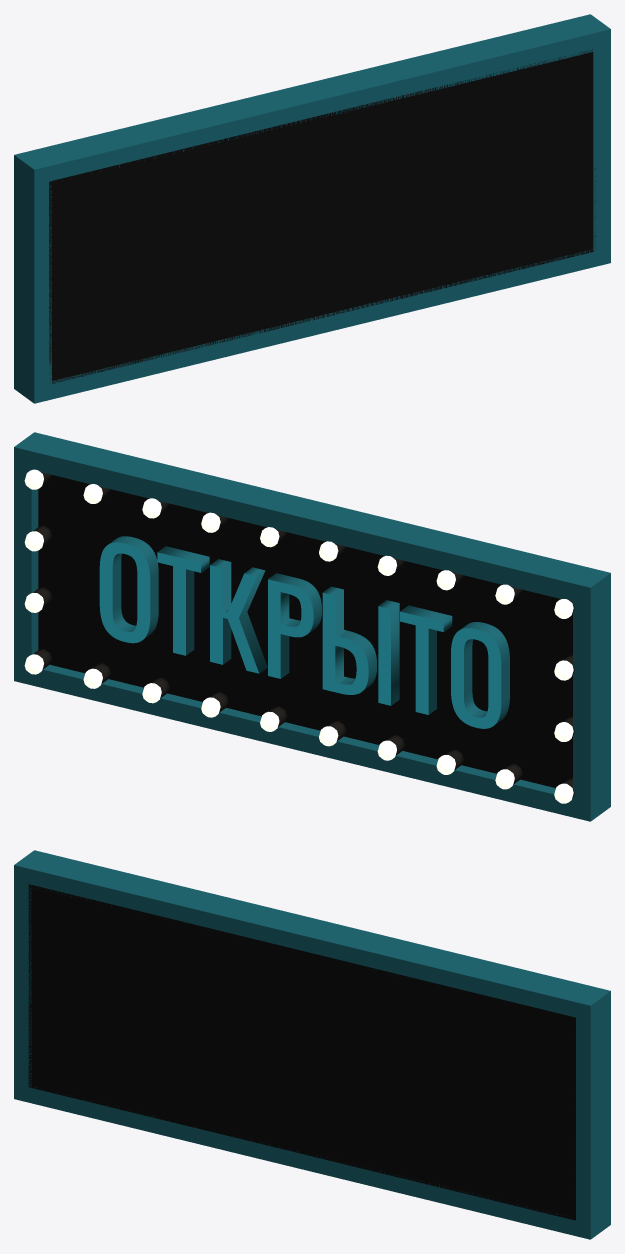
The model's file is open_sign.glb.
3 renders of one model, top to bottom at view 1: azimuth 30°, elevation 25°; view 2: azimuth 150°, elevation 25°; view 3: azimuth 330°, elevation 25°, orthographic.
Parts seen in each view (by area): view 1: Sign; view 2: Sign, BulbsA, BulbsB; view 3: Sign.
Boxes of the visible parts, box(x1,y1,x2,y2) form: Sign: box(14, 14, 610, 403); Sign: box(14, 432, 610, 821); BulbsA: box(24, 484, 573, 789); BulbsB: box(24, 469, 573, 803); Sign: box(14, 850, 610, 1239).
Size of the model in its own units: 1.96 by 0.76 by 0.168.
2 materials, 1 textured.
